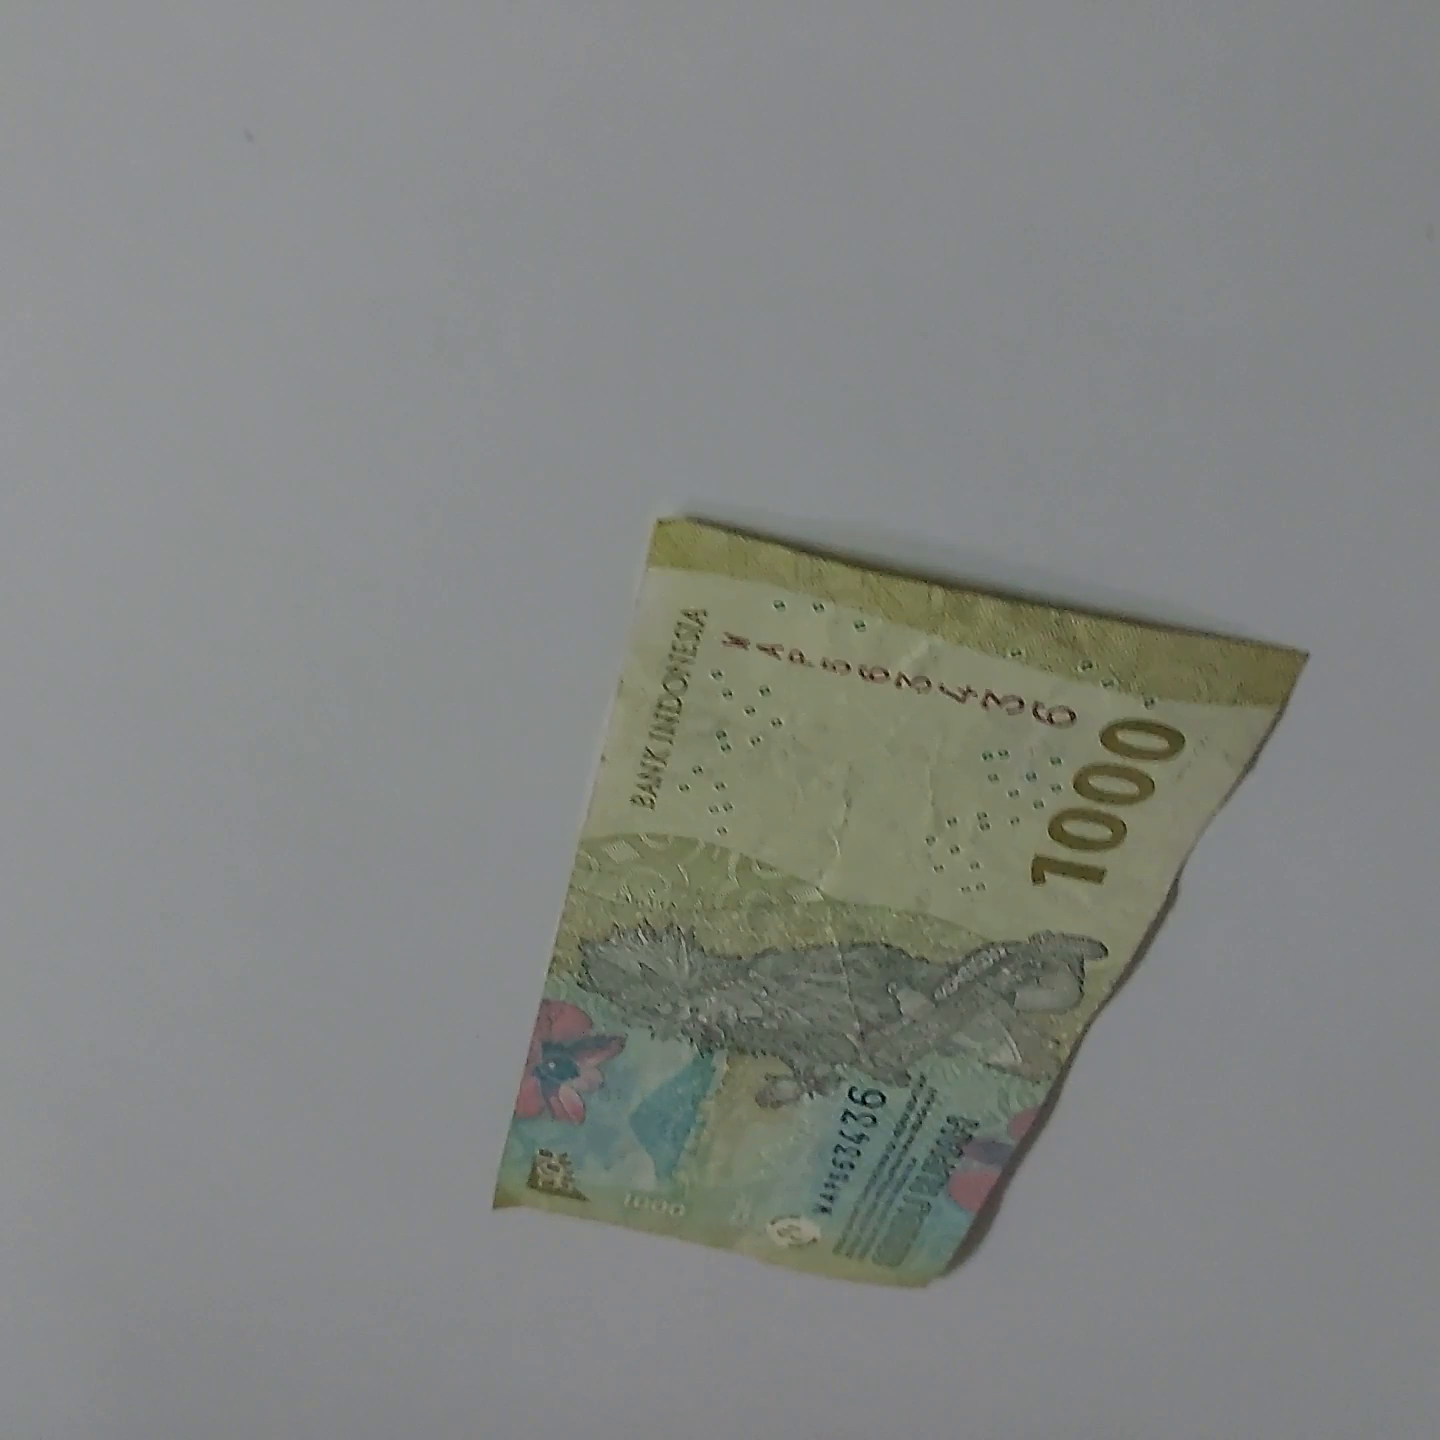1k: (669, 401, 1336, 1237)
